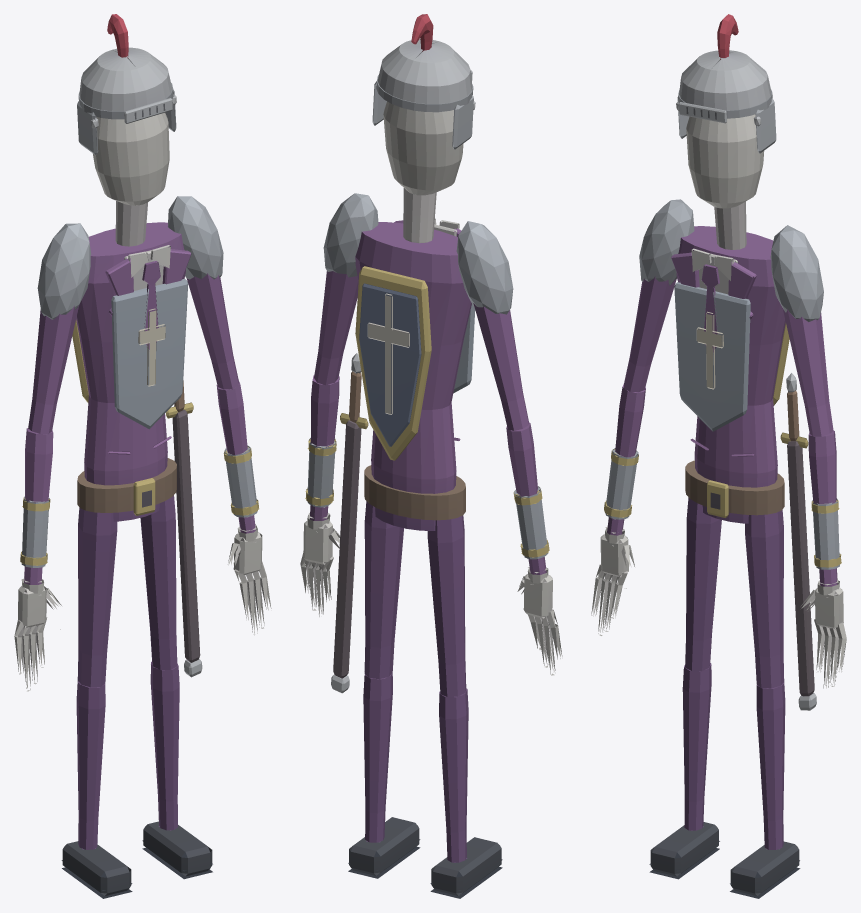
Rendered from SlendermanKnight.glb.
3 views of the same model, side by side, from view 1: azimuth 30°, elevation 25°; view 2: azimuth 150°, elevation 25°; view 3: azimuth 330°, elevation 25° (orthographic). The views are drawn at different scales.
Visible parts, largest first — view 1: Body, ArmR, Head, LegR, ArmL, LegL; view 2: Body, ArmR, Head, LegR, ArmL, LegL; view 3: Body, ArmL, Head, LegL, ArmR, LegR.
Part boxes in pixels (x1,y1,x2,y2): Body: [72, 201, 202, 677]; ArmR: [14, 223, 91, 691]; Head: [77, 14, 176, 205]; LegR: [61, 507, 132, 898]; ArmL: [168, 196, 271, 635]; LegL: [140, 495, 212, 879]; Body: [331, 188, 475, 693]; ArmR: [456, 221, 562, 675]; Head: [372, 14, 475, 195]; LegR: [427, 515, 502, 898]; ArmL: [300, 193, 378, 616]; LegL: [348, 501, 420, 878]; Body: [671, 201, 816, 710]; ArmL: [770, 225, 846, 688]; Head: [676, 14, 776, 208]; LegL: [730, 510, 800, 898]; ArmR: [591, 199, 694, 635]; LegR: [649, 497, 721, 879].
Bounding box in the file's own units: 2.68 × 8.63 × 1.07.
